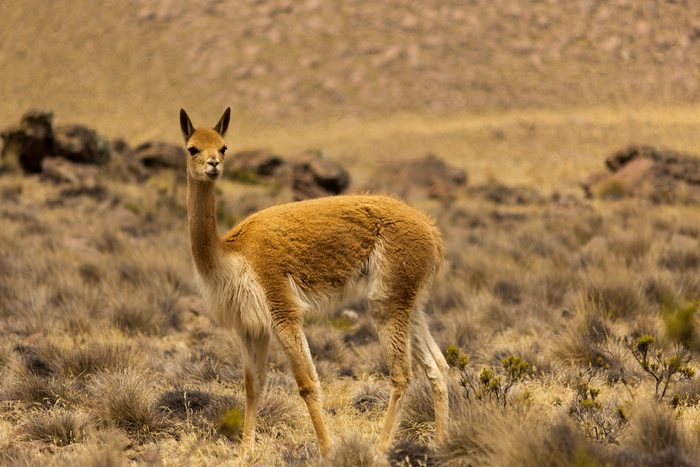eye: (214, 142, 237, 157), (189, 140, 202, 159)
mouth: (203, 164, 226, 183)
